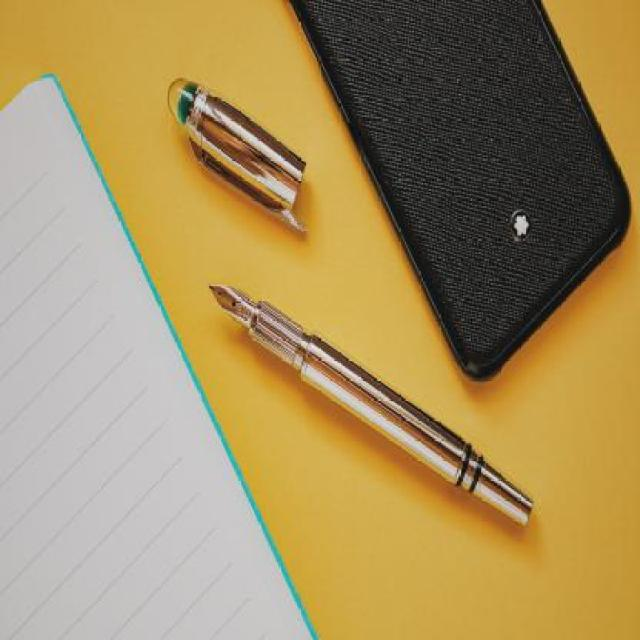pen: (200, 277, 549, 532)
